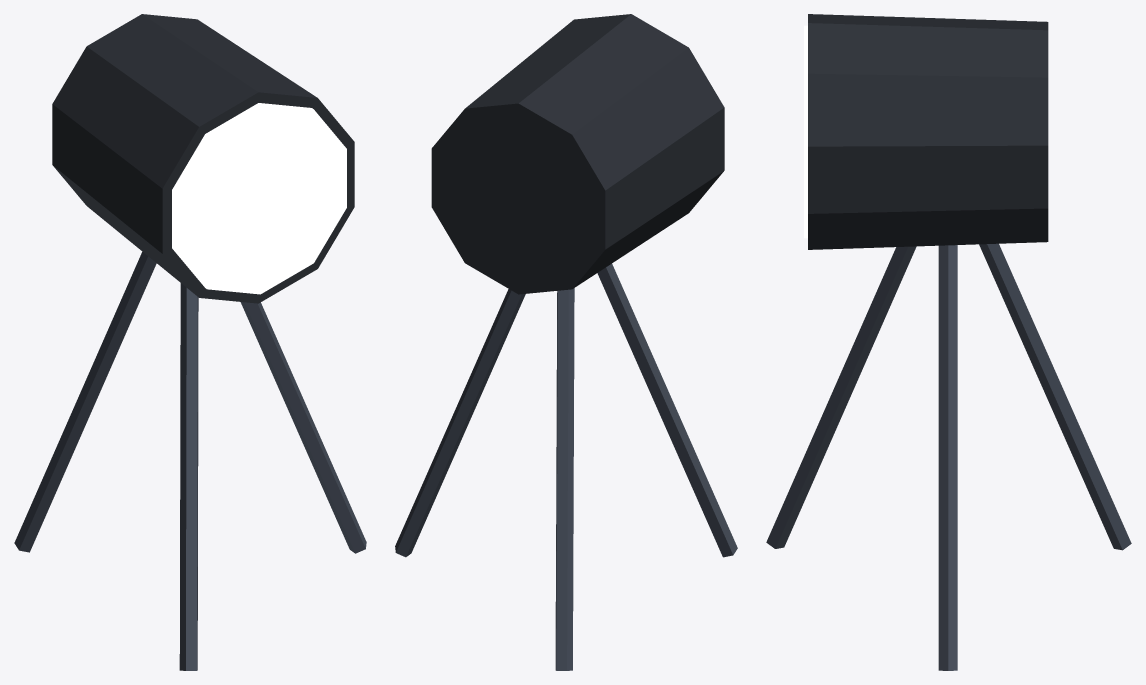
File: searchlight.glb
3 views of the same model, side by side, from view 1: azimuth 30°, elevation 25°; view 2: azimuth 150°, elevation 25°; view 3: azimuth 270°, elevation 25° (orthographic). The views are drawn at different scales.
Visible parts, largest first — view 1: searchlight; view 2: searchlight; view 3: searchlight.
Boxes of the visible parts, x1,y1,x2,y2 form: searchlight: (14, 14, 366, 670); searchlight: (395, 14, 737, 670); searchlight: (766, 14, 1131, 670).
Bounding box in the file's own units: 0.8084 × 1.56 × 0.9122.
